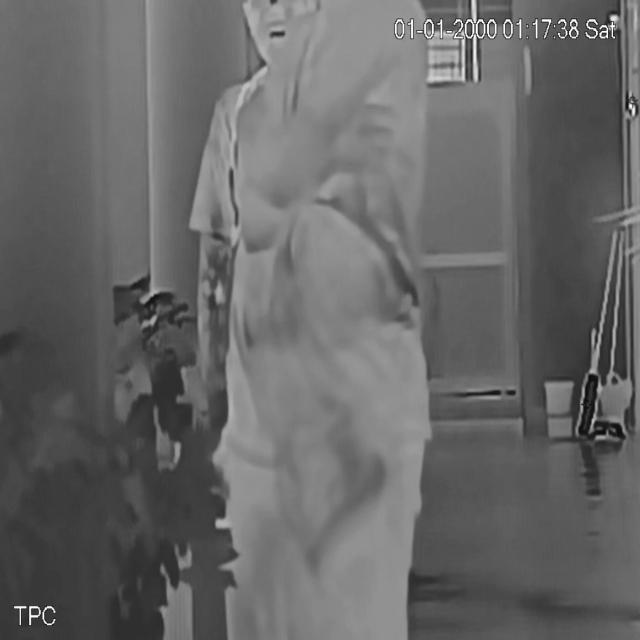Weapon: (288, 402, 396, 584)
